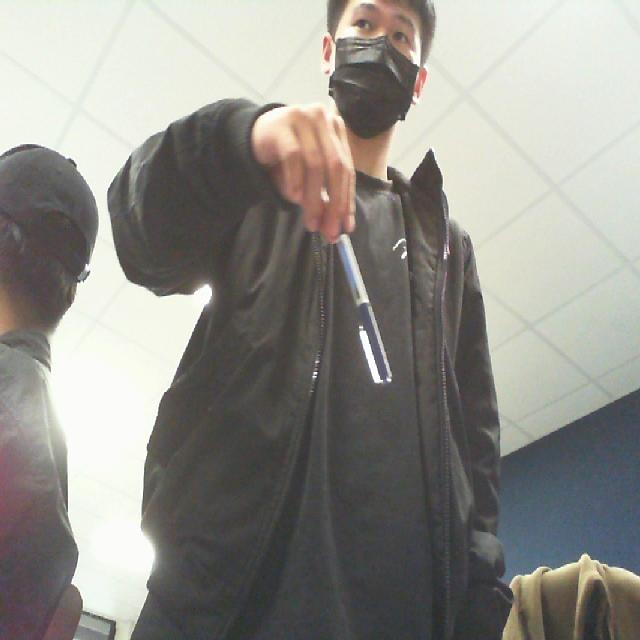Pen: (318, 214, 409, 398)
